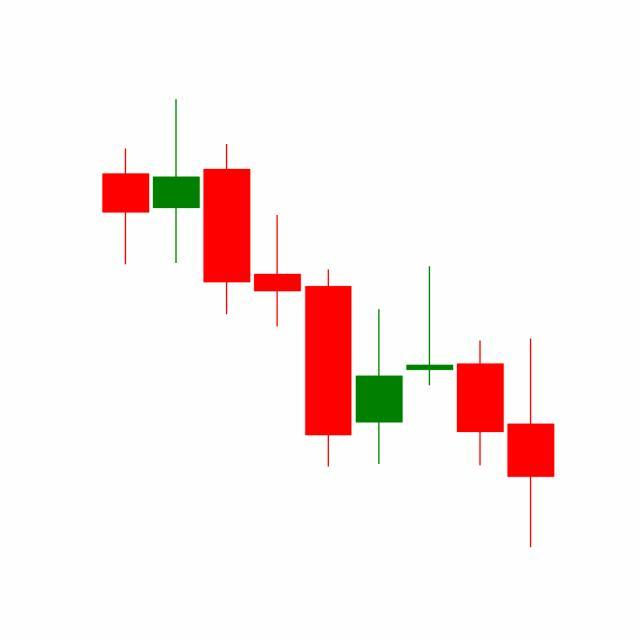Hikkake Pattern: (302, 262, 555, 548)
